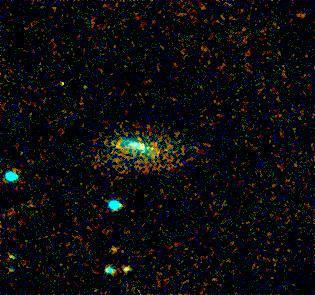star: (100, 234, 130, 264)
